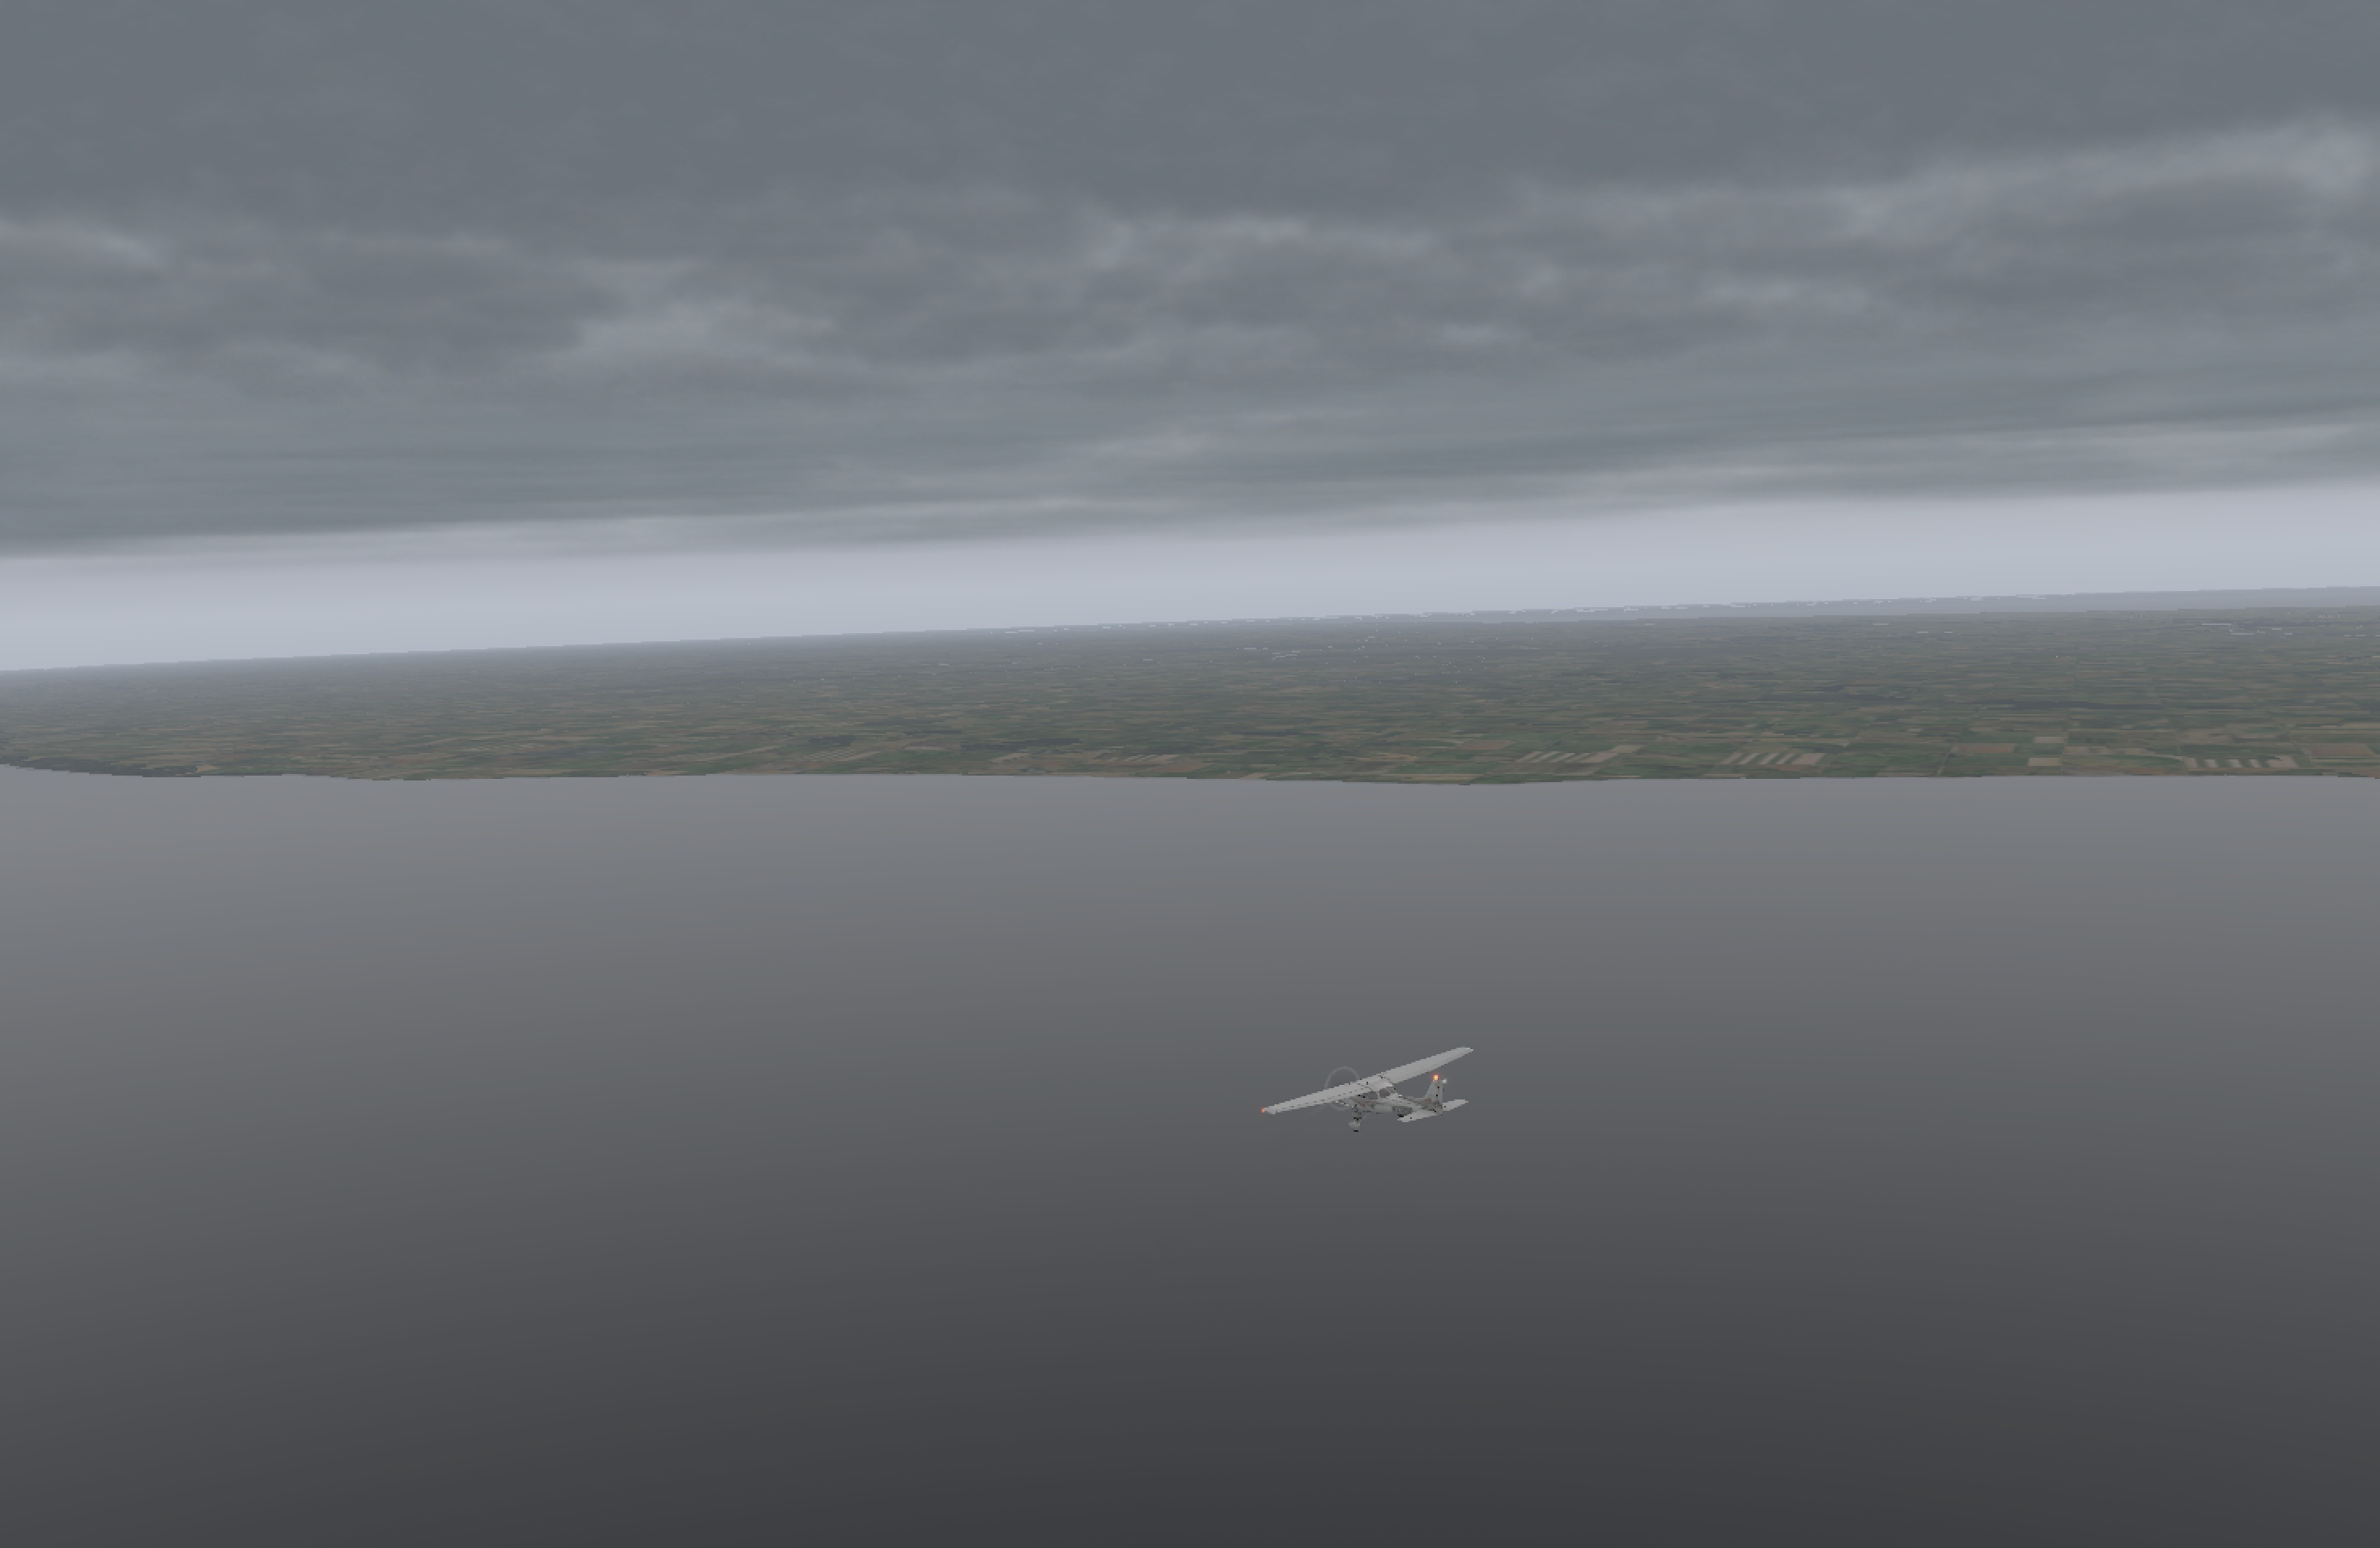aircraft: (1282, 1060, 1457, 1126)
